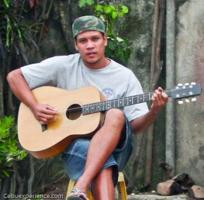person: (6, 16, 168, 199)
